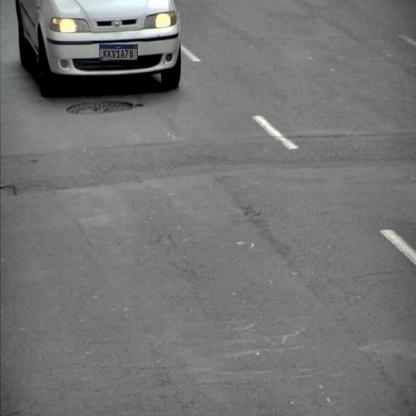PlacaM: (99, 44, 138, 60)
